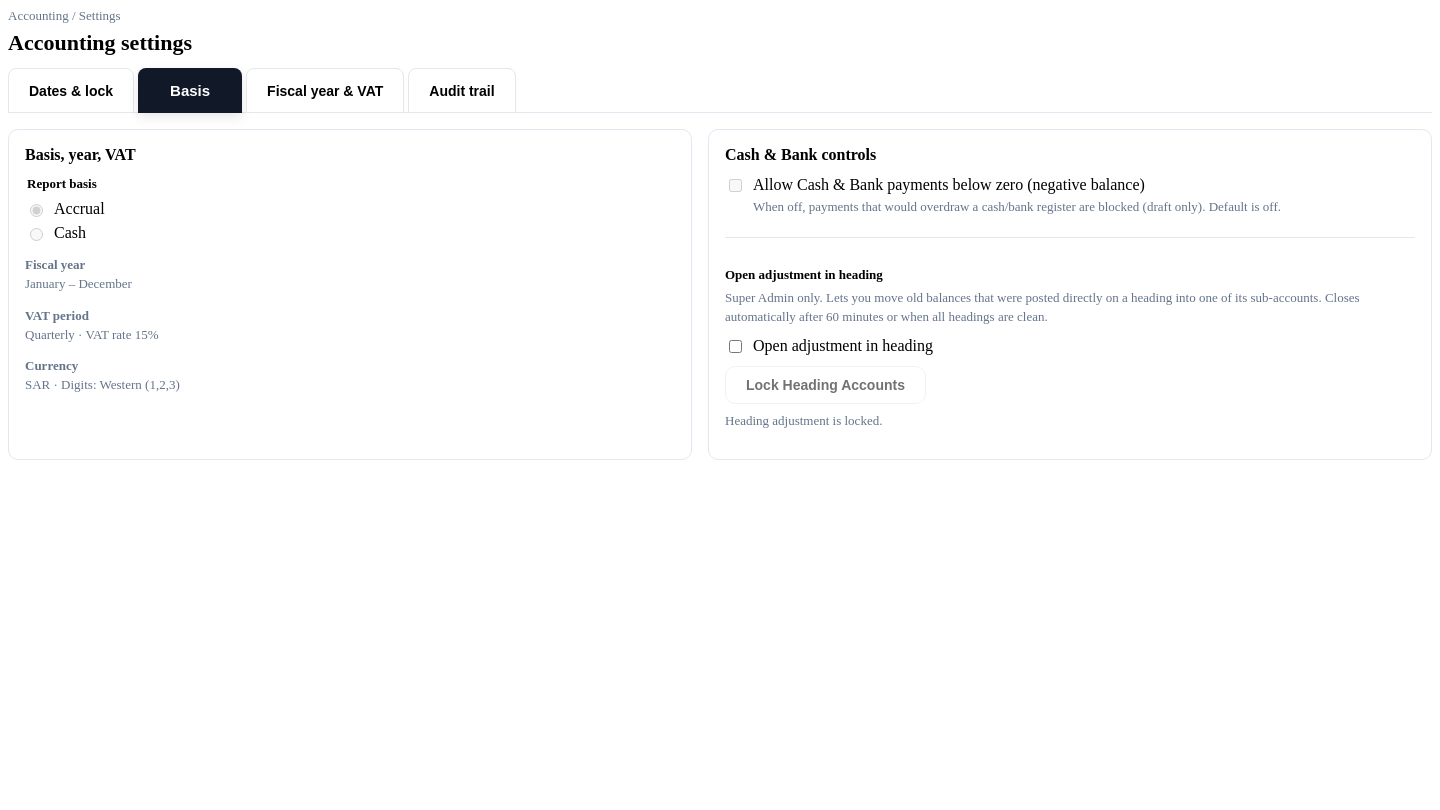
Test: WorkshopAccountingSettings heading toggle dialog › confirm patches exact body and shows opened status
Click the checkbox with test id "heading-reclass-open-checkbox".
click(736, 346)  # box [729,340,742,352]
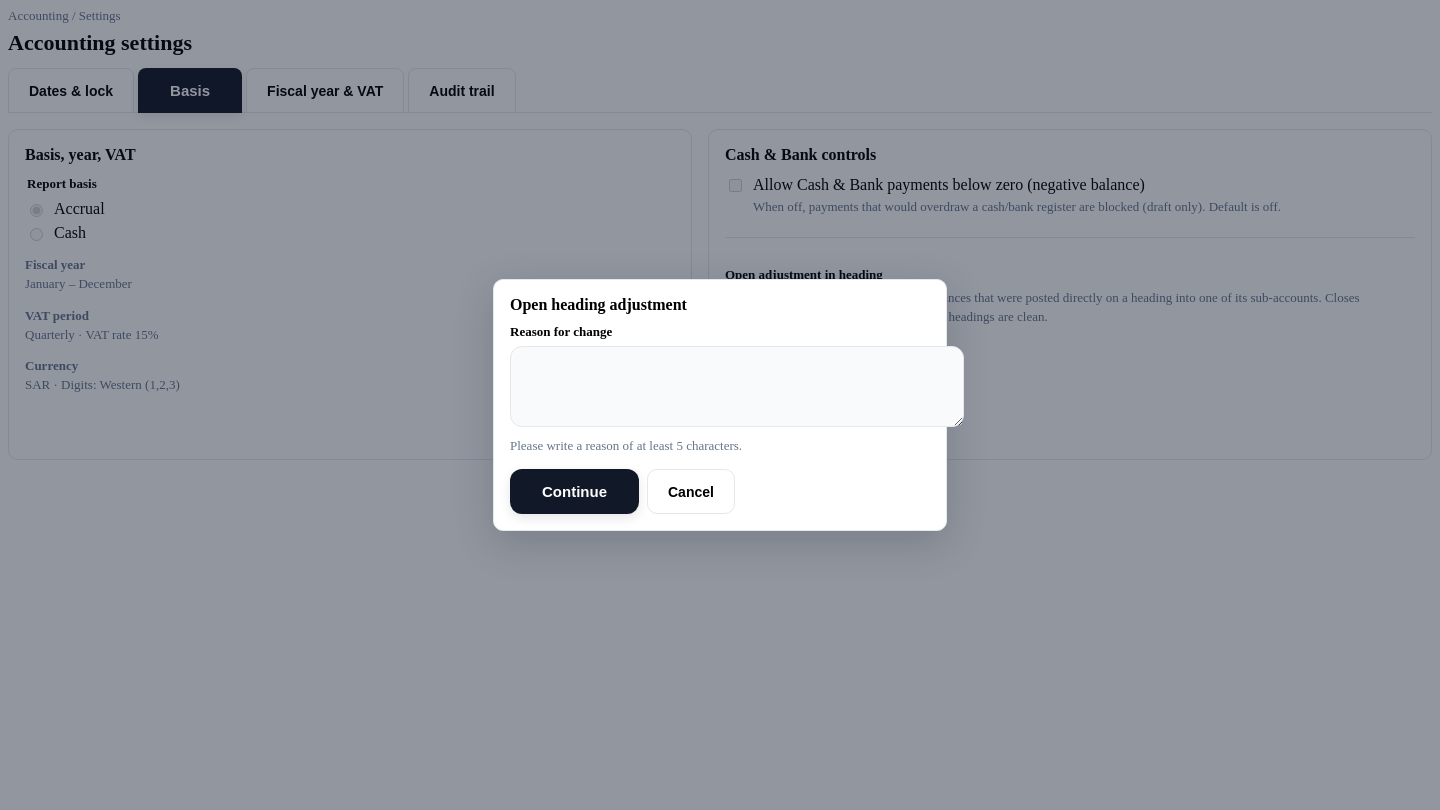
Type "open for Q3 fix" into the text box with test id "heading-reclass-reason".
click(737, 386); type("open for Q3 fix")  # box [510,346,964,427]
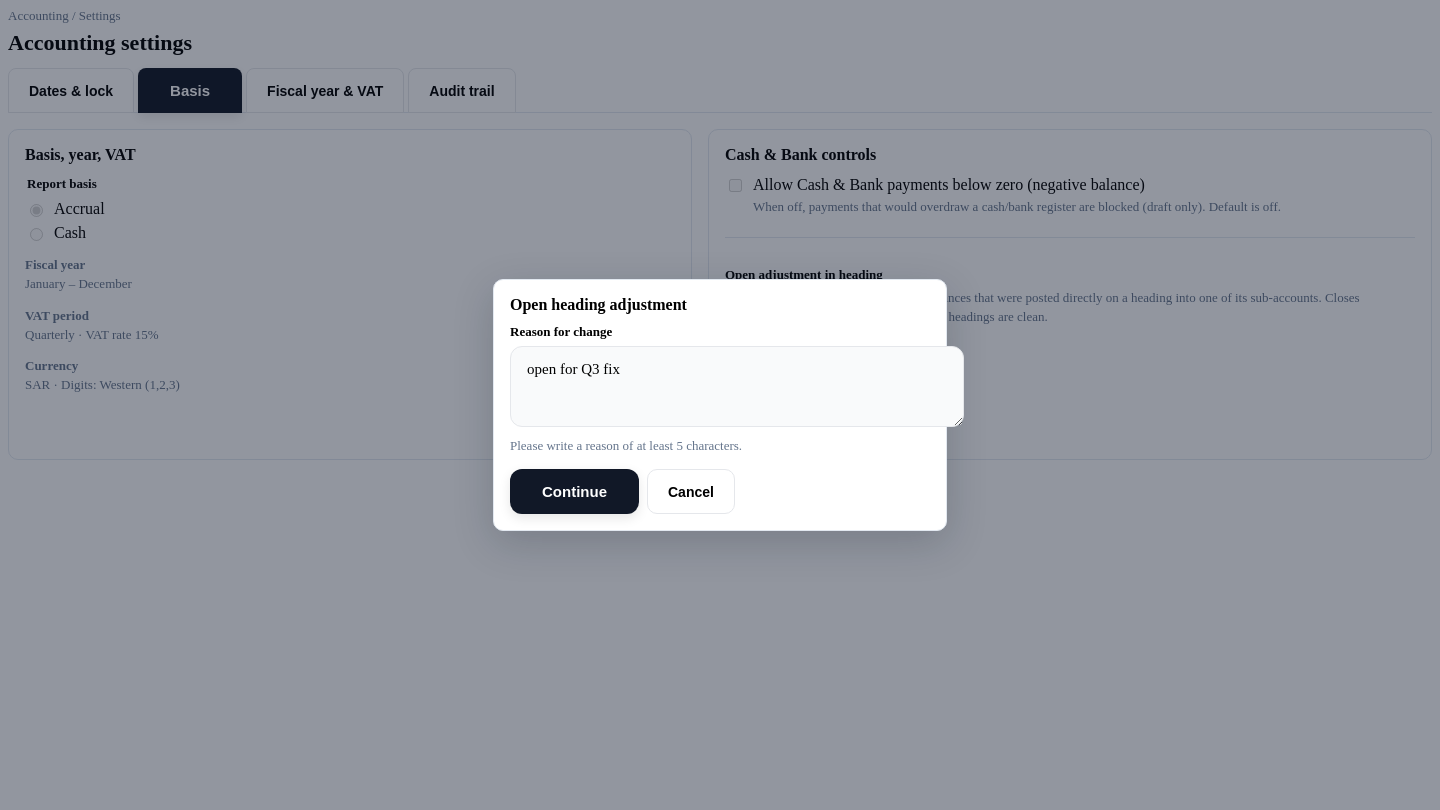
Click the button with test id "heading-reclass-confirm".
click(574, 492)  # box [510,469,639,514]
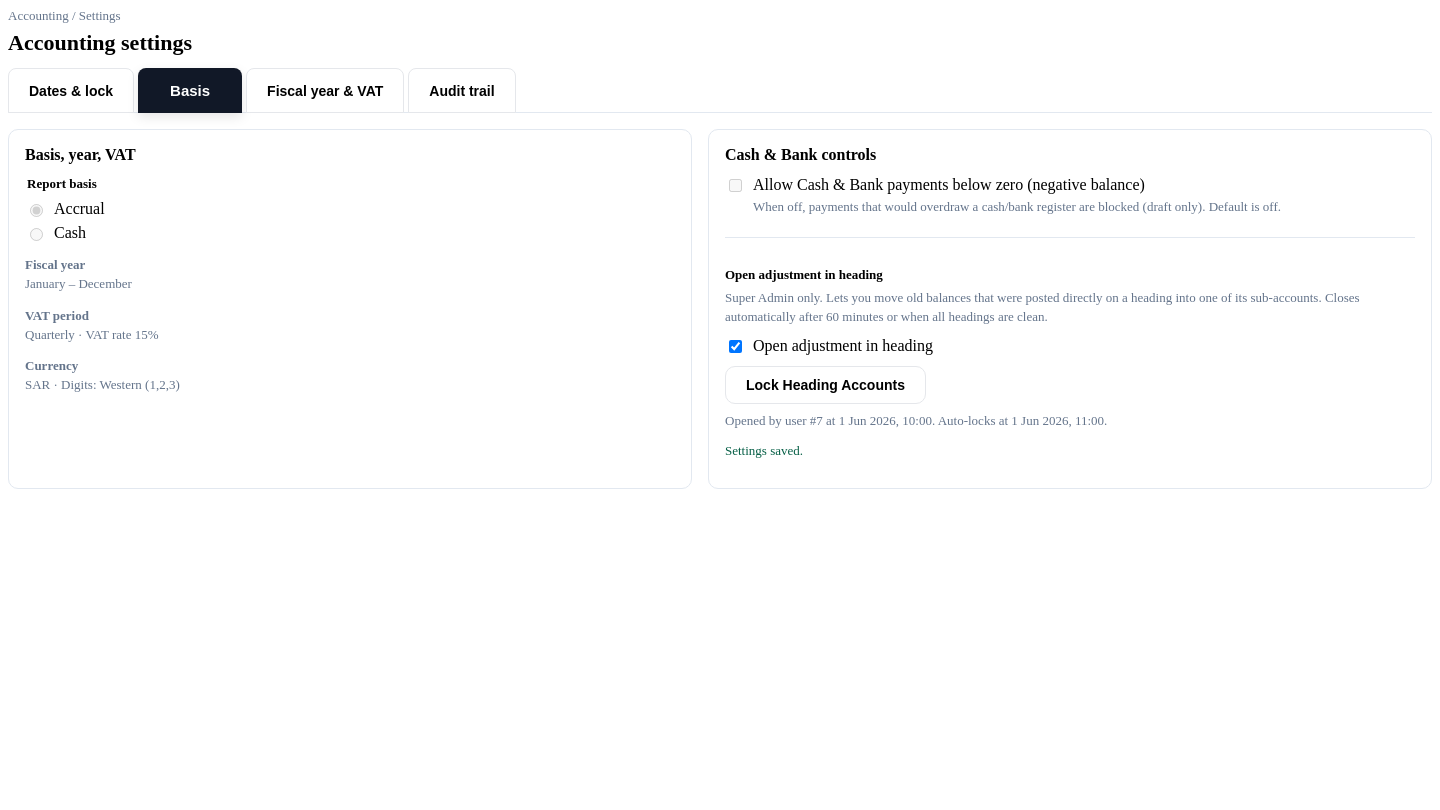
Expected: the checkbox with test id "heading-reclass-open-checkbox" is checked, [729,340,742,352]
Expected: the message with test id "heading-reclass-status" shows "Opened by user #7", [725,412,1107,428]
Expected: the message with test id "heading-reclass-status" shows "Auto-locks at", [725,412,1107,428]
